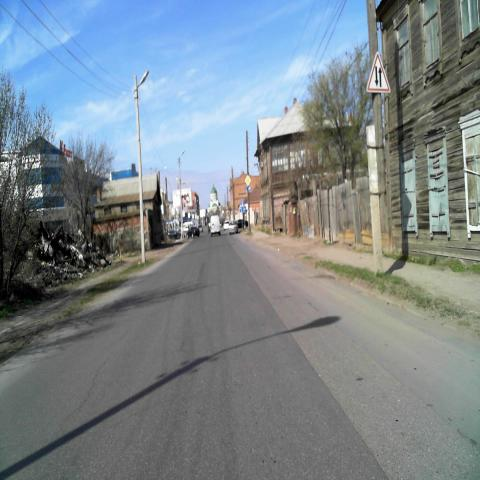1_21: (366, 52, 390, 95)
